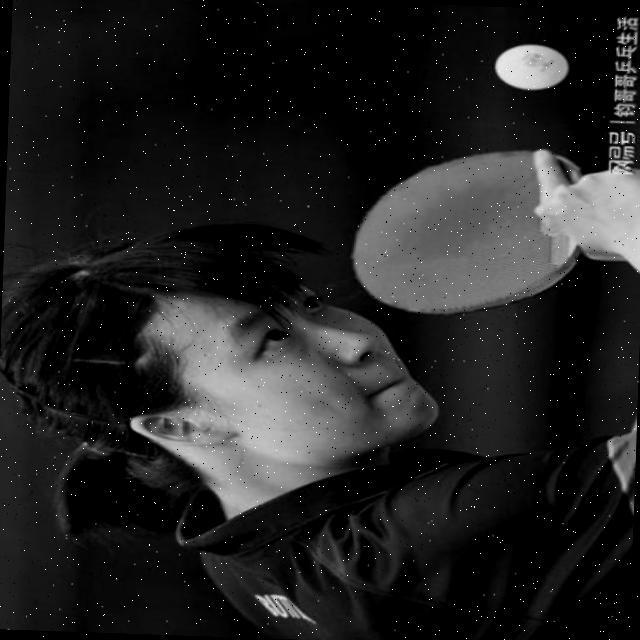ping-pong-ball: (486, 40, 574, 96)
